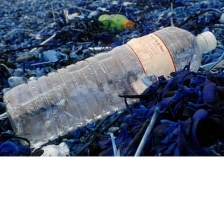bottle: (1, 23, 219, 152)
